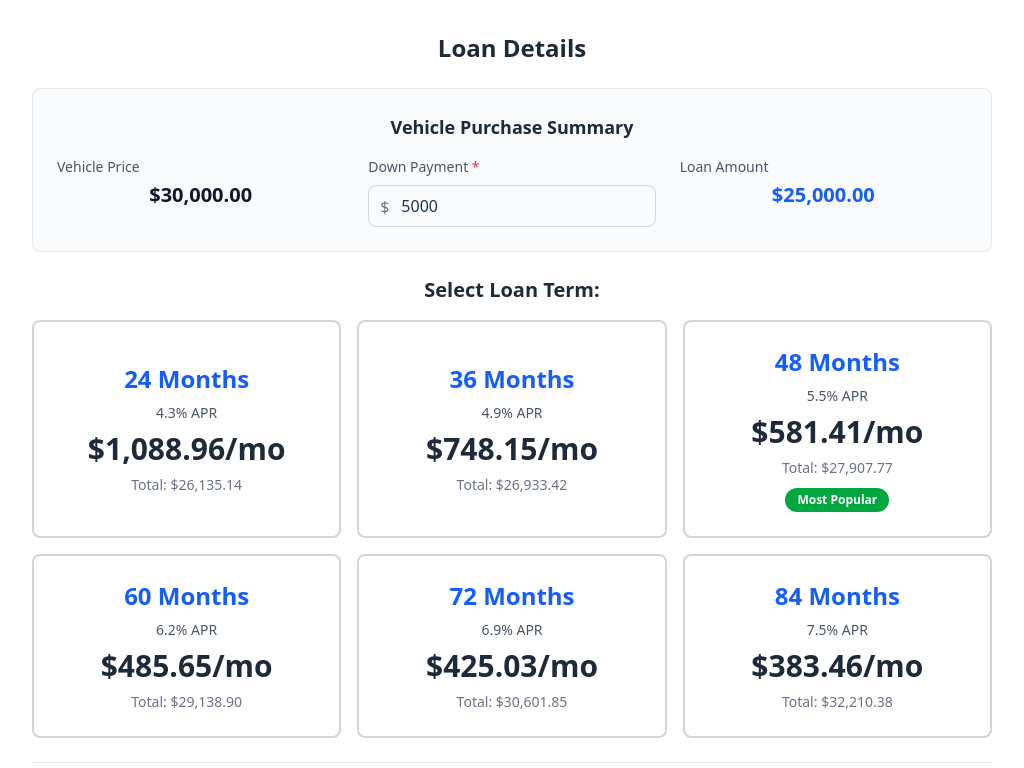
it: LoanDetails Component › Down Payment Input › should show validation error for negative down payment
Replace the text in the number field labelled "Down Payment *" with "-1000" at (512, 206), box 368,185 -> 656,227
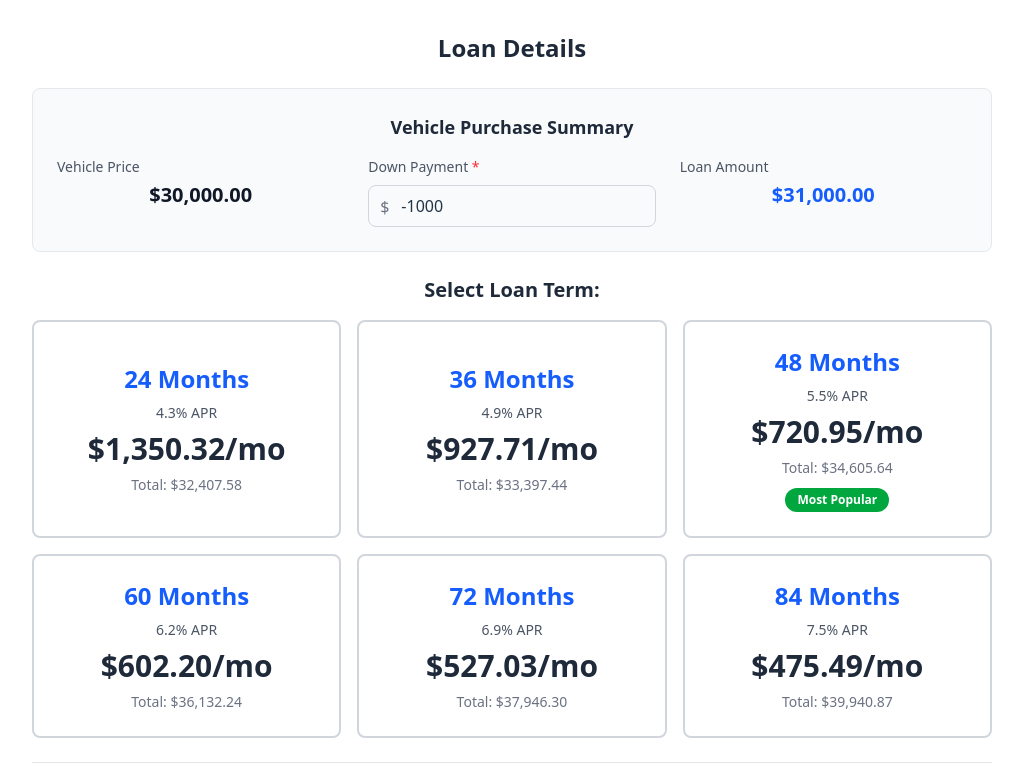
Leave the number field labelled "Down Payment *", box 368,185 -> 656,227
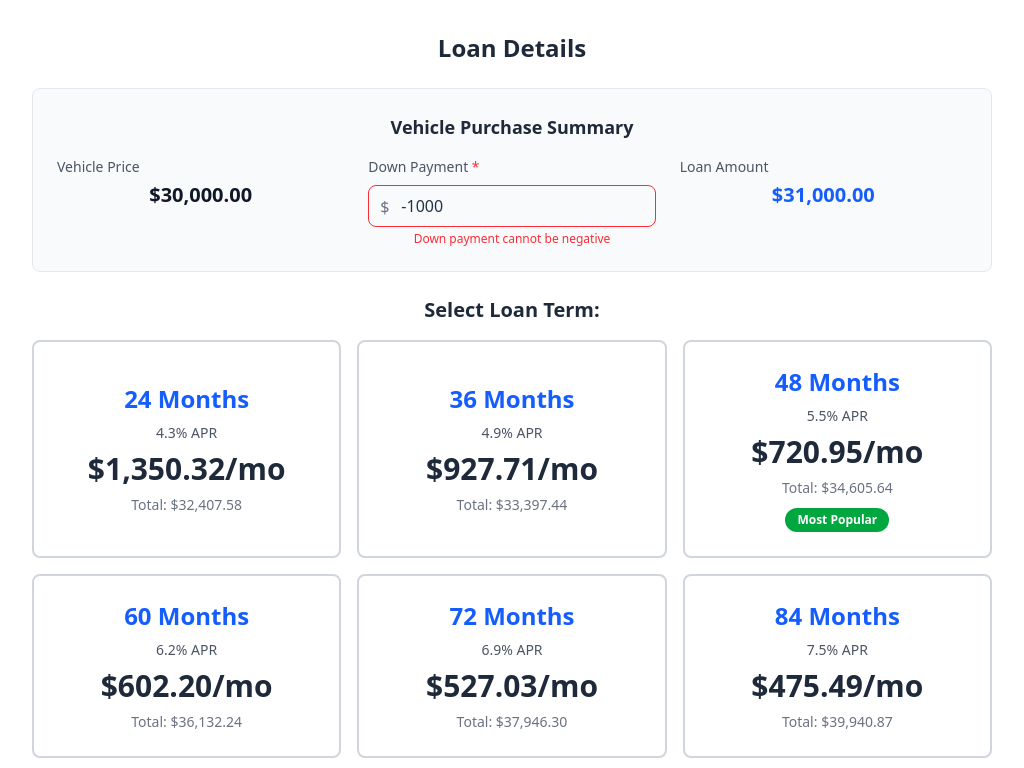
Expected: the text "Down payment cannot be negative" is shown, 414,230 -> 610,247
